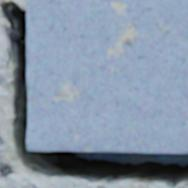brick: (27, 0, 187, 153)
crack: (0, 0, 187, 187)
